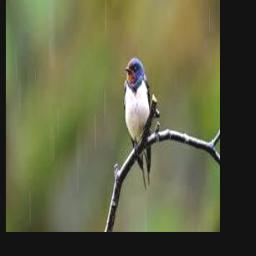Swallow: (123, 58, 151, 190)
